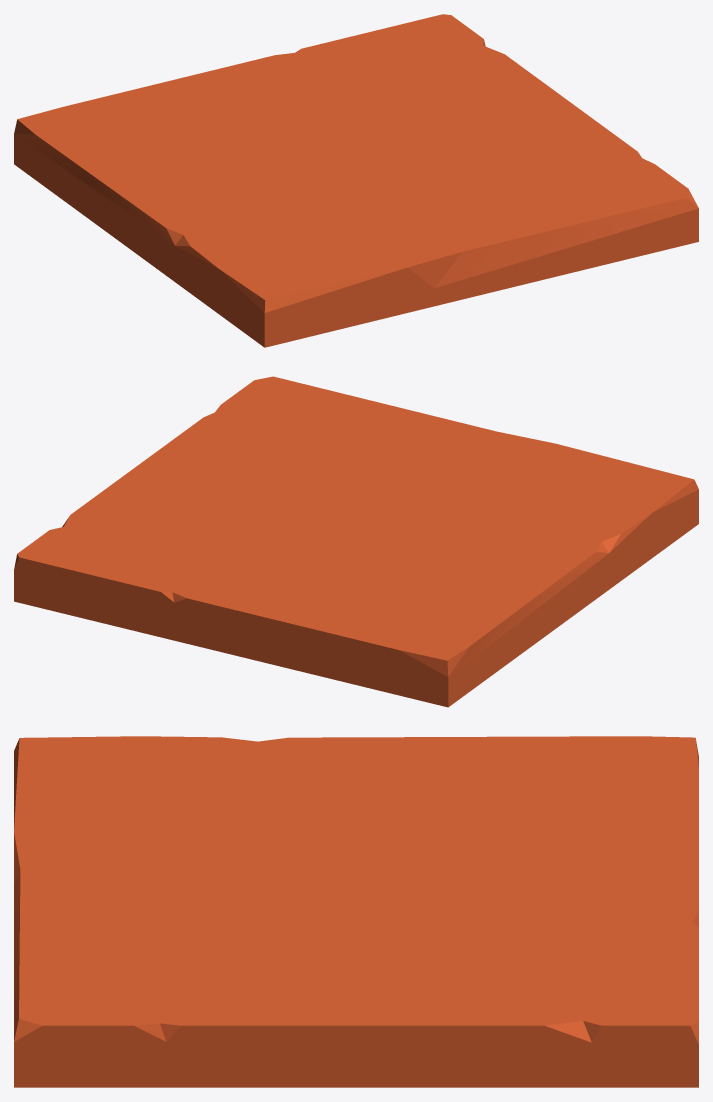
The model's file is ActiveTile.glb.
3 renders of one model, top to bottom at view 1: azimuth 30°, elevation 25°; view 2: azimuth 150°, elevation 25°; view 3: azimuth 270°, elevation 25°, orthographic. The views are drawn at different scales.
Parts seen in each view (by area): view 1: SM_PolygonPrototype_Buildings_Floor_5x5_01P; view 2: SM_PolygonPrototype_Buildings_Floor_5x5_01P; view 3: SM_PolygonPrototype_Buildings_Floor_5x5_01P.
Boxes of the visible parts, <box> form: SM_PolygonPrototype_Buildings_Floor_5x5_01P: <box>14,14,698,347</box>; SM_PolygonPrototype_Buildings_Floor_5x5_01P: <box>14,376,698,707</box>; SM_PolygonPrototype_Buildings_Floor_5x5_01P: <box>14,736,698,1087</box>.
Size of the model in its own units: 1 by 0.1 by 1.
